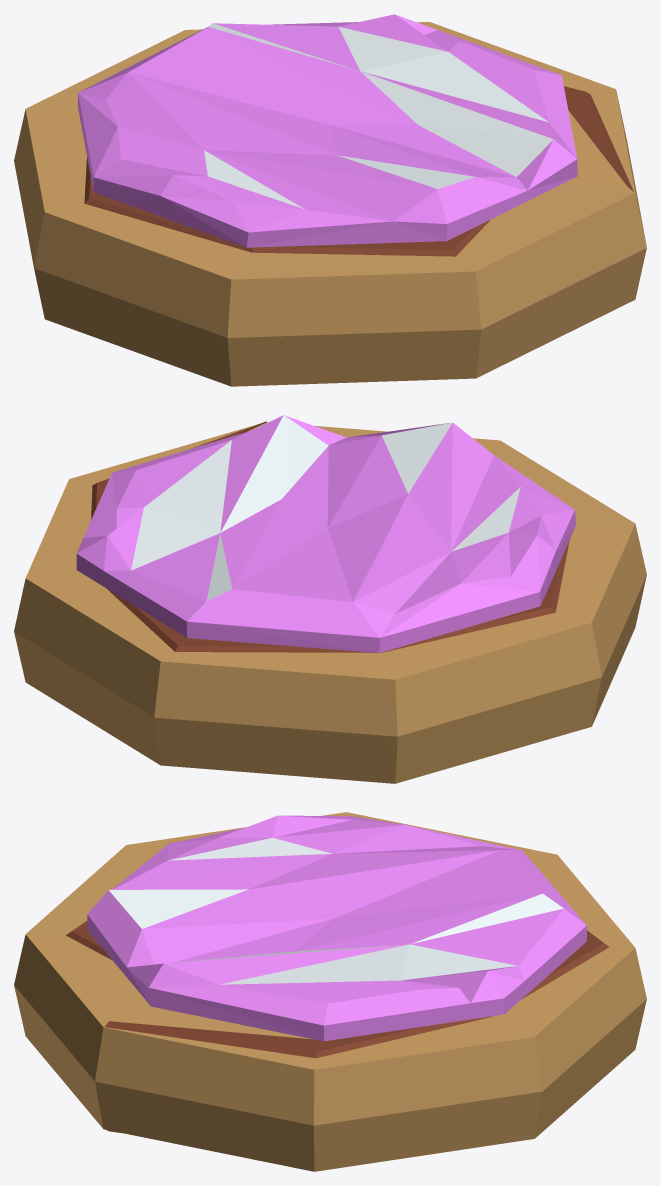
The model's file is SnackCinnaBuddyPink.001.fbx.
The picture shows the model from 3 angles, top to bottom: view 1: azimuth 30°, elevation 25°; view 2: azimuth 150°, elevation 25°; view 3: azimuth 270°, elevation 25°; orthographic projection. The views are drawn at different scales.
Visible parts, largest first — view 1: SnackCinnaBuddyPink.001; view 2: SnackCinnaBuddyPink.001; view 3: SnackCinnaBuddyPink.001.
Part boxes in pixels (x1=…): SnackCinnaBuddyPink.001: x1=14, y1=14, x2=646, y2=386; SnackCinnaBuddyPink.001: x1=14, y1=415, x2=646, y2=783; SnackCinnaBuddyPink.001: x1=14, y1=812, x2=646, y2=1171.
Size of the model in its own units: 44.39 by 12.18 by 44.39.
